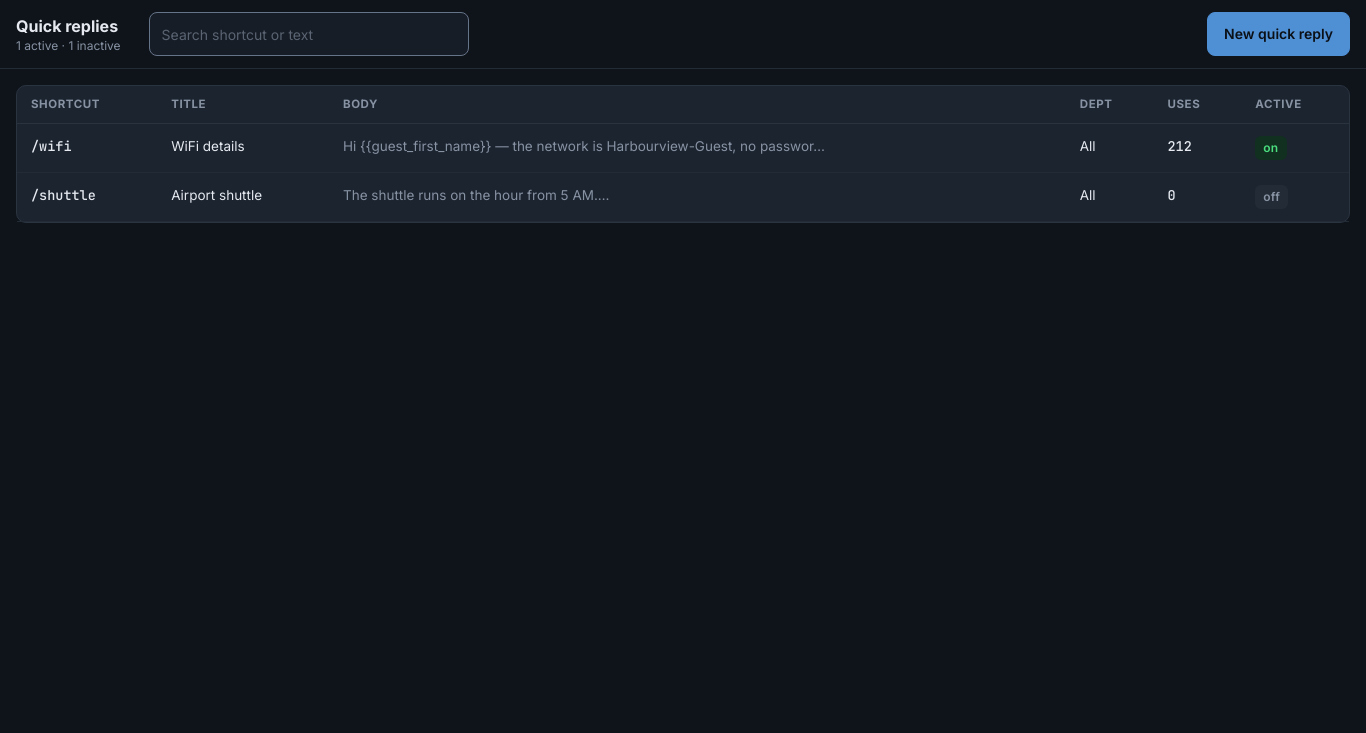
it: QuickRepliesAdmin › renders one Insert chip per variable the server supports
Click the text "WiFi details". click: click(243, 148)
box: [157,124,329,173]
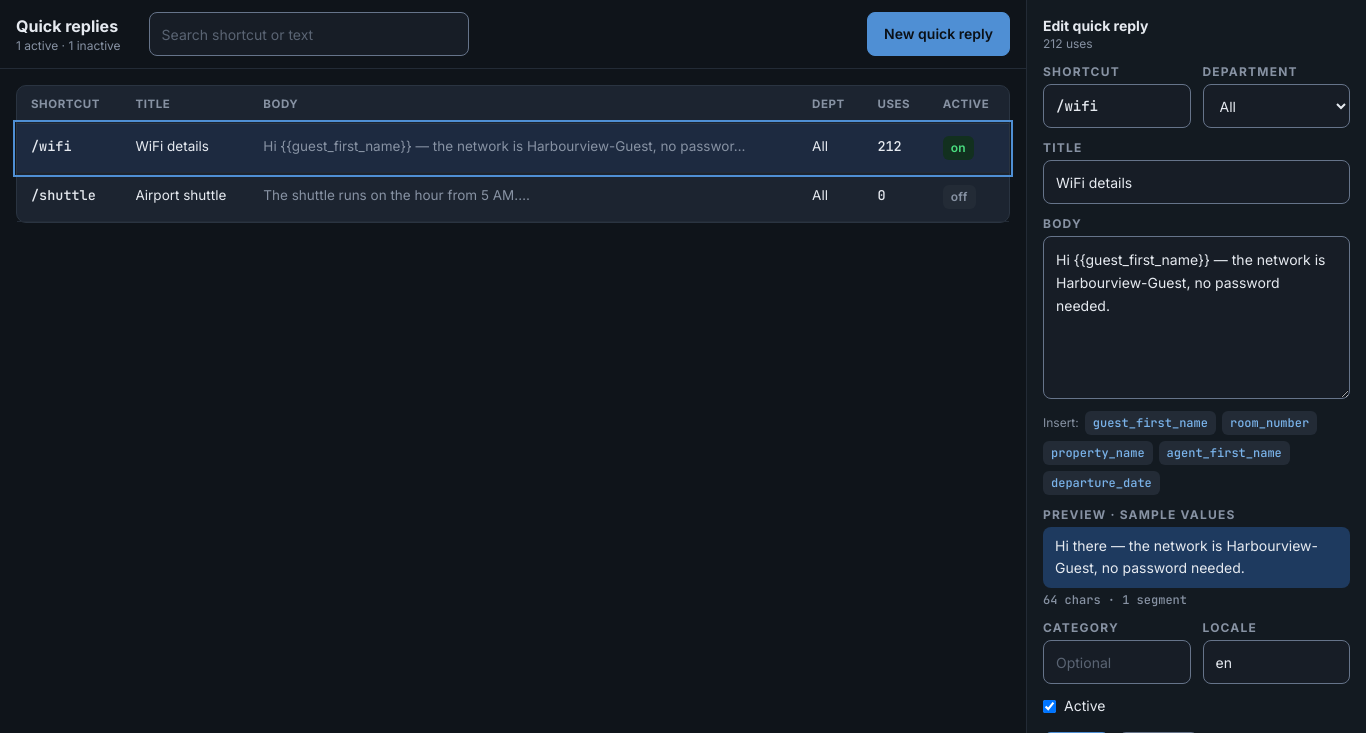
Expected: the text box labelled "Body" is shown, [1043,236,1350,398]
Expected: the button "guest_first_name" is shown, [1085,410,1216,434]
Expected: the button "room_number" is shown, [1222,410,1317,434]
